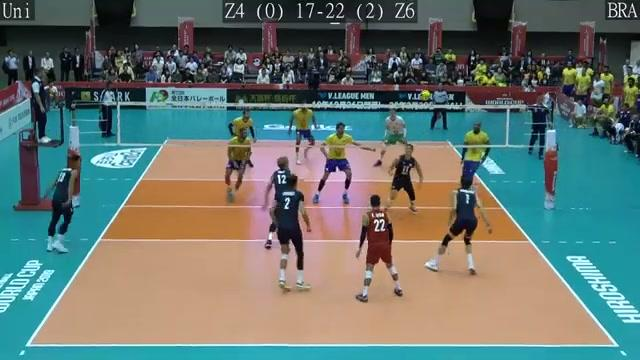ball: (419, 90, 431, 100)
